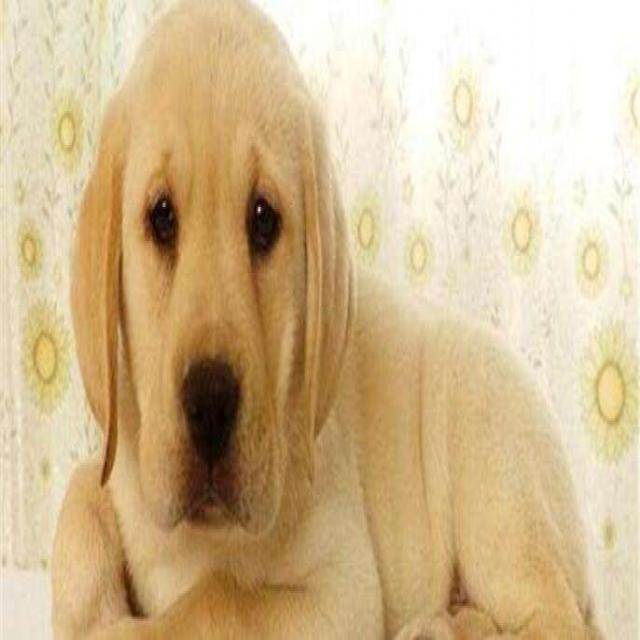eye: (246, 188, 282, 262), (148, 188, 178, 255)
